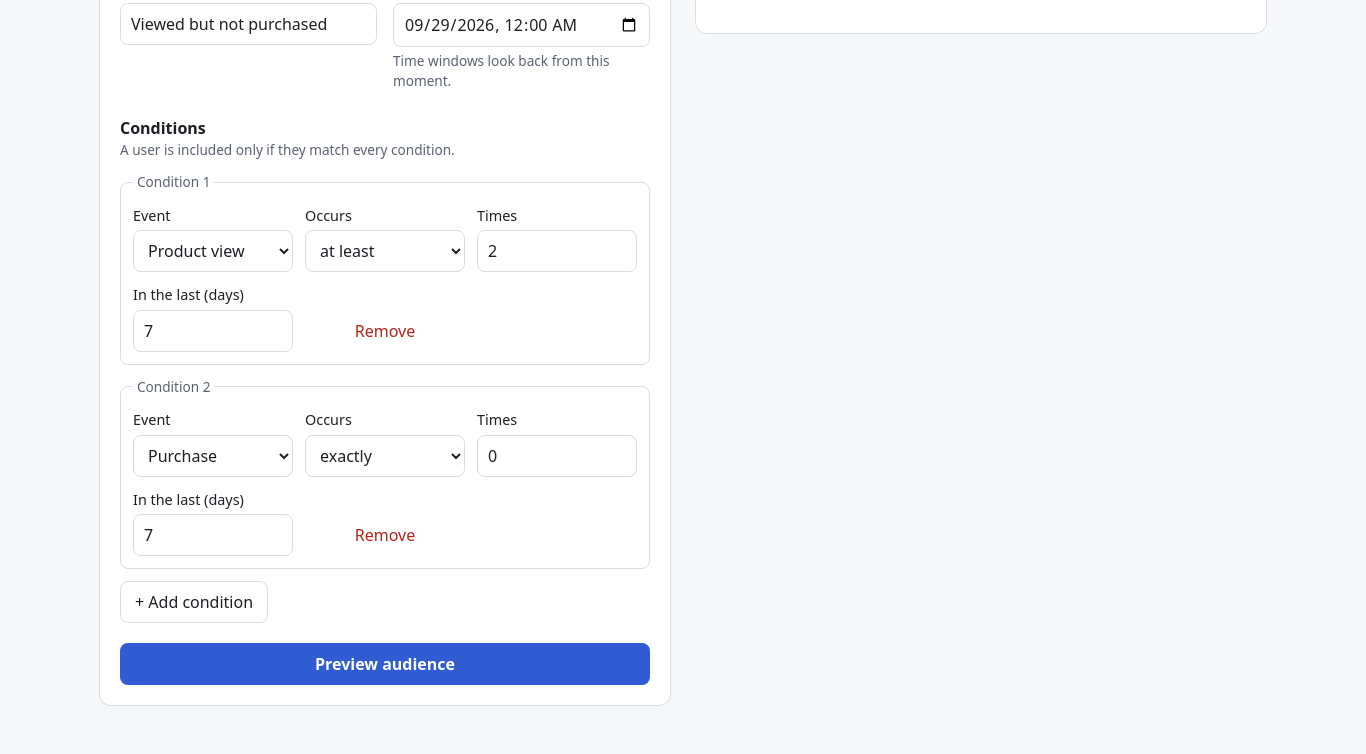
Scenario: App › shows an empty state when nobody matches
(page scrolled)
Click the button "Preview audience" at (385, 664), box [120,643,650,685]
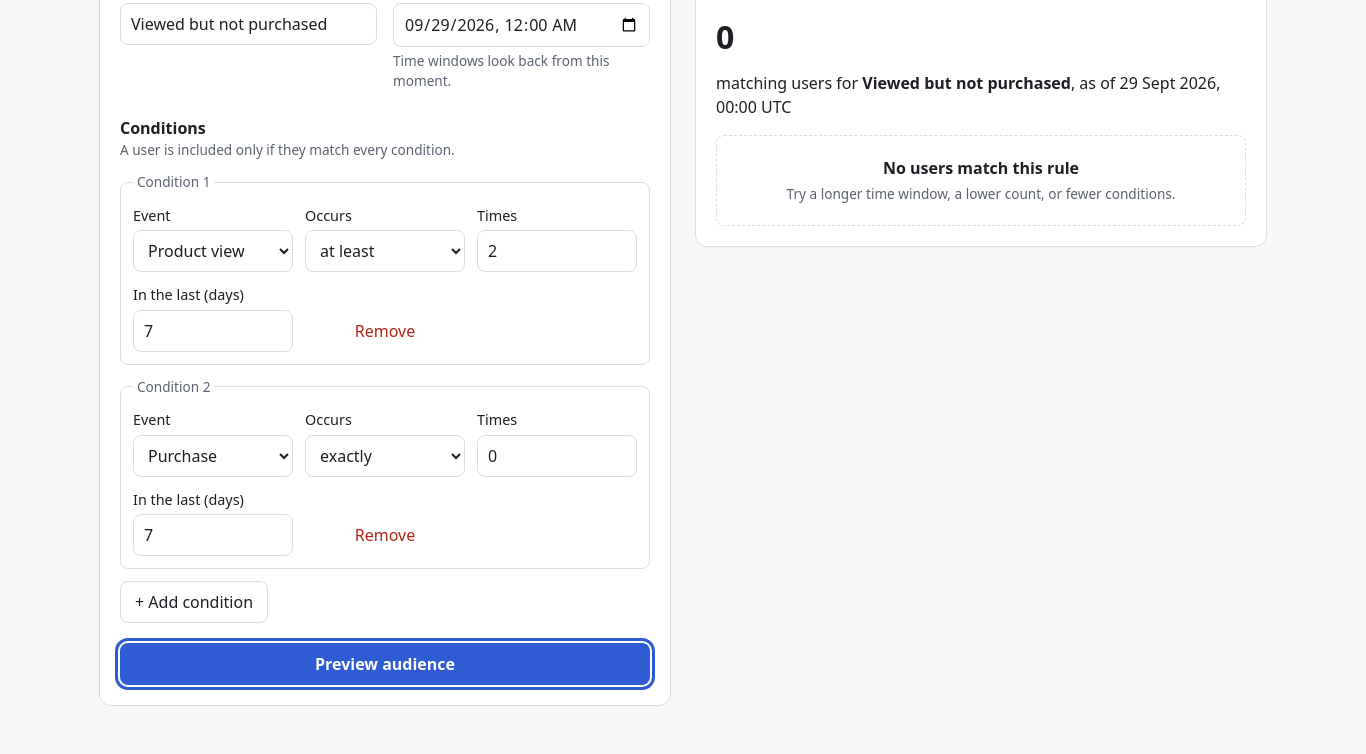
Now the text "No users match this rule" is shown, box [883,157,1079,179]
